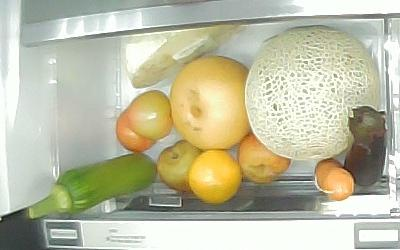cabbage: (126, 25, 245, 88)
carrot: (313, 158, 357, 203)
eggplant: (346, 106, 388, 190)
melon: (245, 25, 383, 162)
pear: (168, 56, 250, 150)
prune: (239, 133, 293, 183), (158, 139, 202, 193), (126, 90, 174, 139)
tangerine: (187, 150, 241, 203)
tomato: (116, 107, 156, 152)
zucchini: (27, 151, 157, 219)
